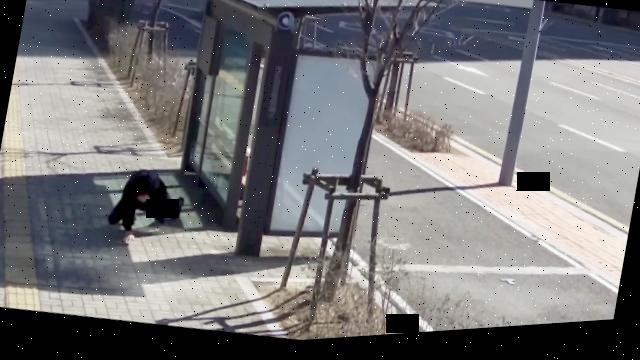fall: (107, 163, 195, 255)
